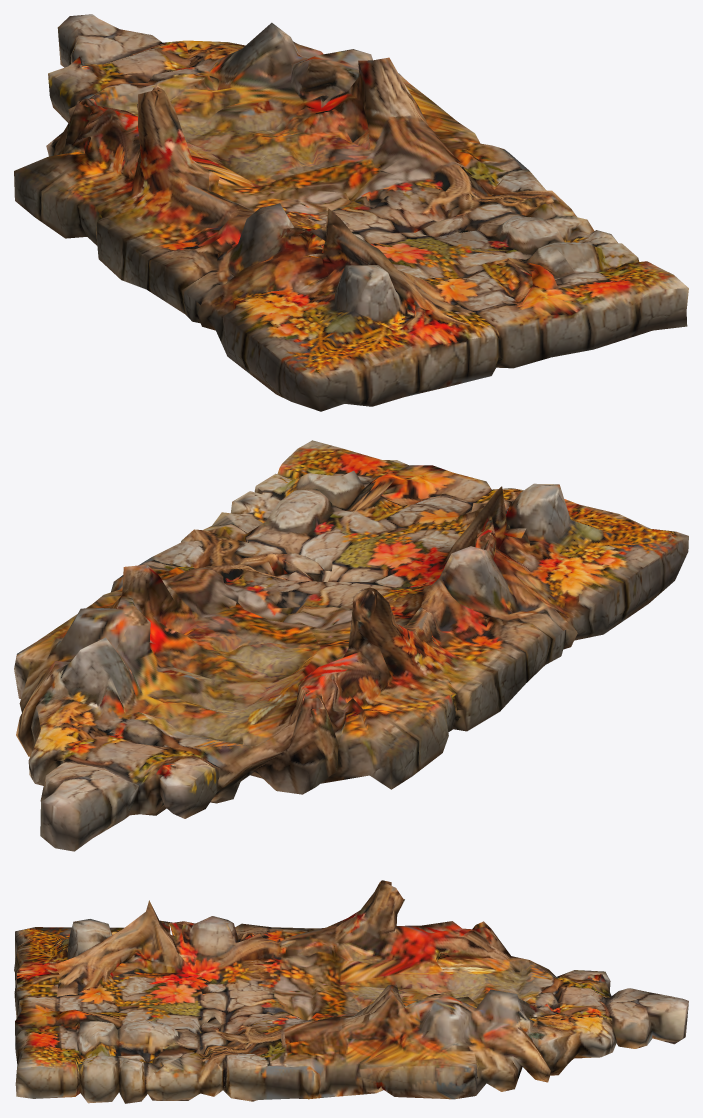
Rendered from MapleForest_Floor.fbx.
3 views of the same model, one above another, from view 1: azimuth 30°, elevation 25°; view 2: azimuth 150°, elevation 25°; view 3: azimuth 270°, elevation 25° (orthographic). The views are drawn at different scales.
Parts seen in each view (by area): view 1: MapleForest_Floor_Mesh; view 2: MapleForest_Floor_Mesh; view 3: MapleForest_Floor_Mesh.
Part boxes in pixels (x1,y1,x2,y2): MapleForest_Floor_Mesh: [14, 14, 688, 411]; MapleForest_Floor_Mesh: [14, 440, 688, 851]; MapleForest_Floor_Mesh: [14, 880, 688, 1103].
Bounding box in the file's own units: 6 × 2.21 × 11.57.
1 material, 1 textured.
